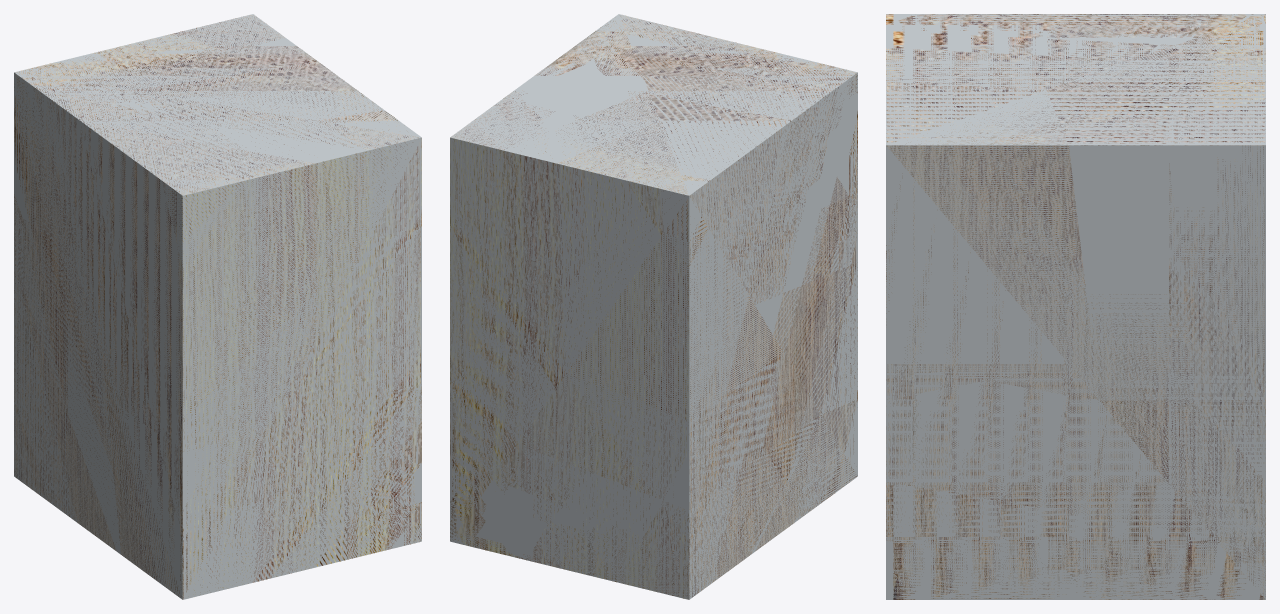
Rendered from meranti.glb.
The picture shows the model from 3 angles, left to right: view 1: azimuth 30°, elevation 25°; view 2: azimuth 150°, elevation 25°; view 3: azimuth 270°, elevation 25°; orthographic projection. The views are drawn at different scales.
Parts seen in each view (by area): view 1: BackSide, FrontSide; view 2: BackSide, FrontSide; view 3: BackSide, FrontSide.
Boxes of the visible parts, left/top/right/bottom form: BackSide: left=14, top=14, right=421, bottom=599; FrontSide: left=14, top=15, right=421, bottom=598; BackSide: left=450, top=14, right=857, bottom=599; FrontSide: left=450, top=16, right=857, bottom=598; BackSide: left=886, top=14, right=1265, bottom=599; FrontSide: left=886, top=14, right=1265, bottom=599.
Size of the model in its own units: 1.36 by 2.19 by 1.66.
Materials: 4 (3 with a texture image).
